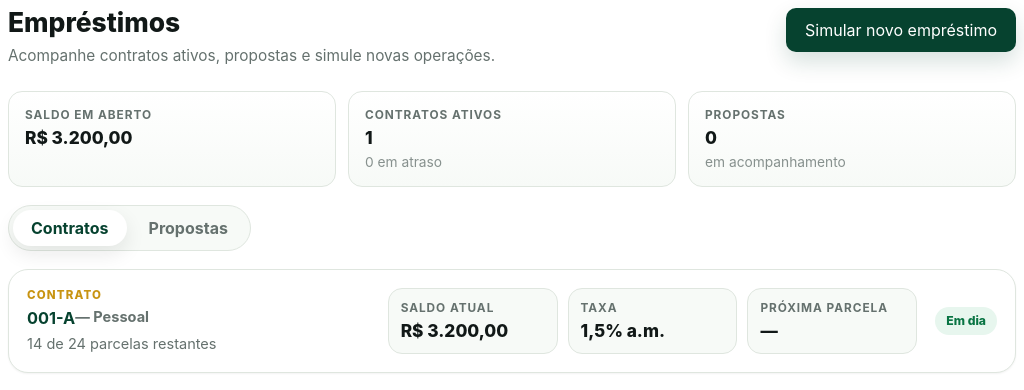
Test: EmprestimoApp › navega para tela ConsultaScreen (extrato) a partir do Contrato
Click the text "001-A". click: (51,319)
box: [27, 308, 75, 329]
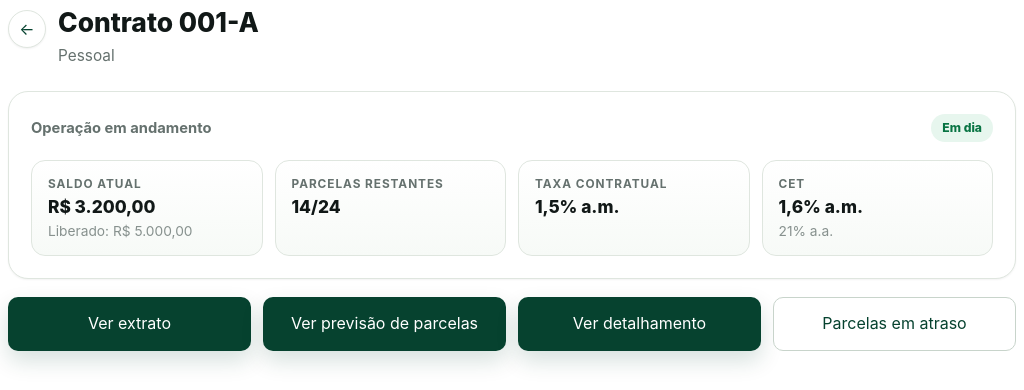
Expected: the button "Ver extrato" is shown
Click the button "Ver extrato". click: (130,324)
box: [8, 297, 251, 351]
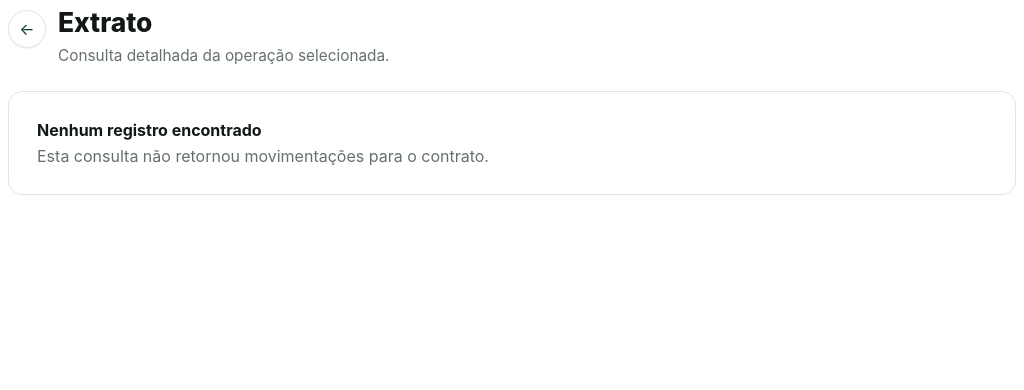
Expected: the heading "Extrato" is shown, [58, 6, 152, 38]
